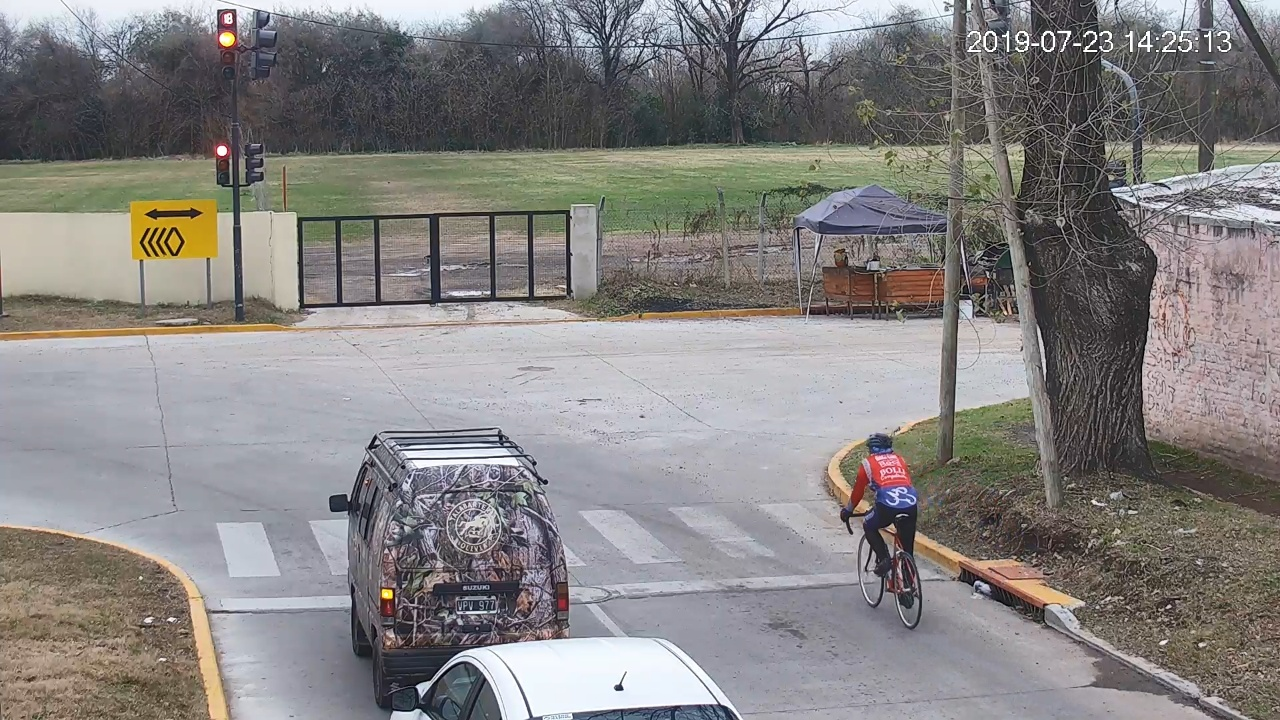bicycle: (839, 432, 923, 629)
car: (389, 637, 744, 720)
traffic light: (218, 31, 238, 79), (216, 143, 230, 184)
